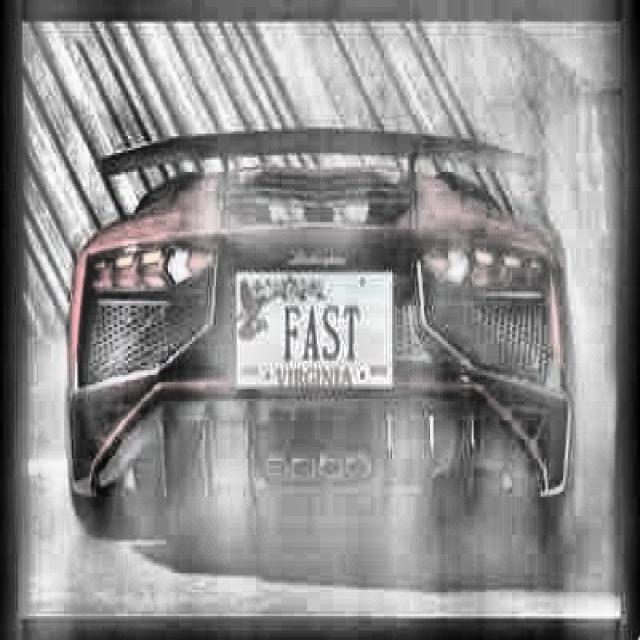license_plate: (235, 276, 390, 398)
